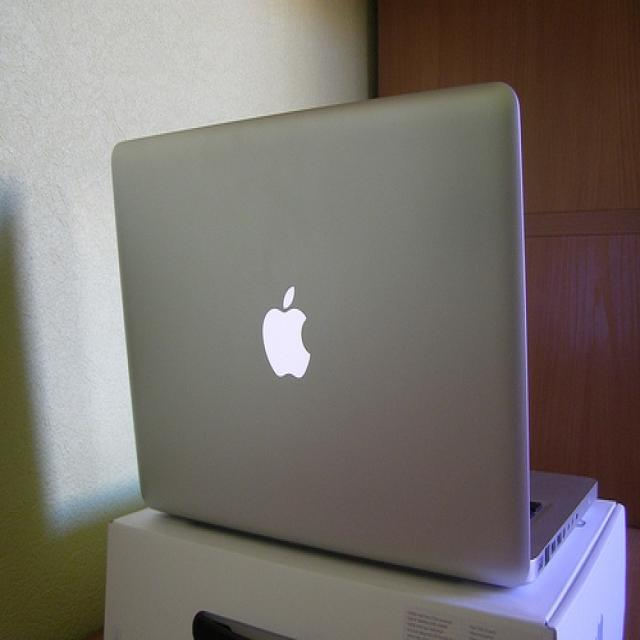apple: (257, 279, 317, 383)
